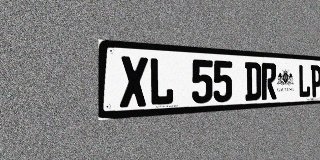5: (192, 59, 213, 104), (213, 60, 232, 103)
D: (245, 62, 261, 101)
L: (149, 57, 174, 106), (298, 64, 310, 98)
P: (311, 65, 320, 97)
R: (262, 63, 276, 100)
X: (120, 56, 148, 108)
